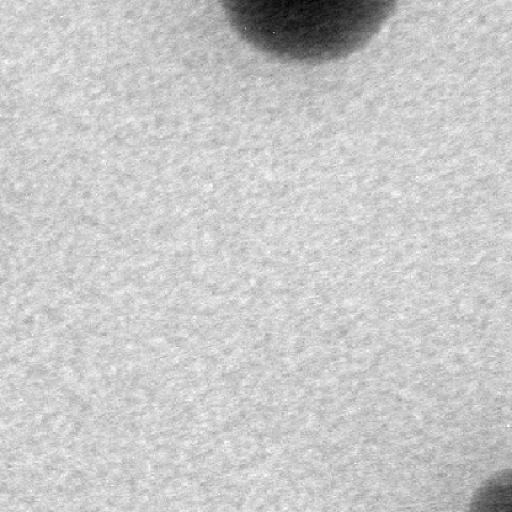Nanoparticles: (221, 0, 395, 58), (466, 466, 511, 512)
